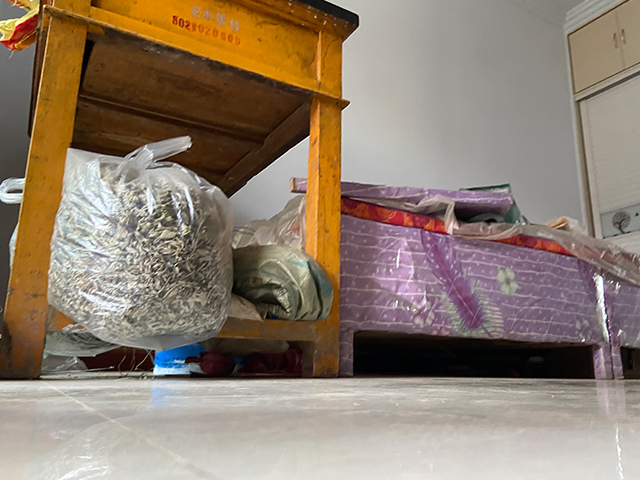bed: (339, 211, 640, 382)
table: (1, 1, 359, 381)
